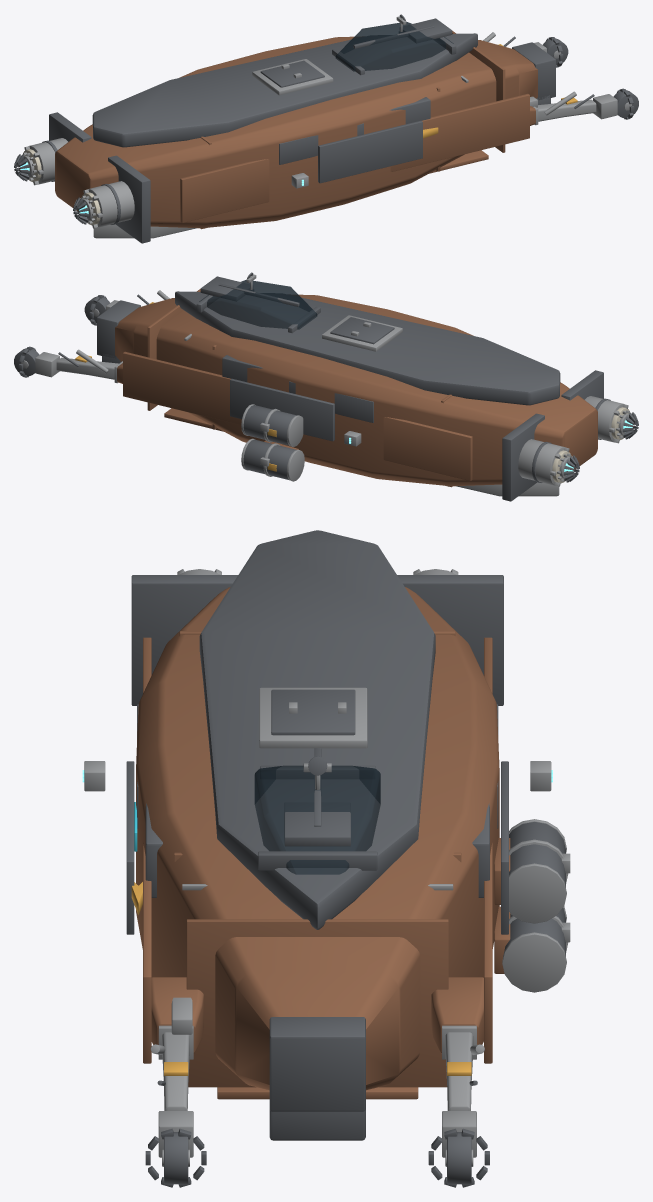
The model's file is pelican_production_v1_lod0.glb.
3 views of the same model, one above another, from view 1: azimuth 30°, elevation 25°; view 2: azimuth 150°, elevation 25°; view 3: azimuth 270°, elevation 25° (orthographic). The views are drawn at different scales.
Parts seen in each view (by area): view 1: LOD0_Hull, LOD0_Armor, LOD0_Mechanical, LOD0_Canopy, LOD0_Ceramic; view 2: LOD0_Hull, LOD0_Armor, LOD0_Mechanical, LOD0_Canopy, LOD0_Ceramic; view 3: LOD0_Armor, LOD0_Hull, LOD0_Mechanical, LOD0_Canopy, LOD0_Warning.
Part boxes in pixels (x1=…): LOD0_Hull: x1=55, y1=31, x2=537, y2=229; LOD0_Armor: x1=14, y1=14, x2=638, y2=243; LOD0_Mechanical: x1=21, y1=16, x2=631, y2=238; LOD0_Canopy: x1=335, y1=21, x2=453, y2=71; LOD0_Ceramic: x1=22, y1=149, x2=100, y2=225; LOD0_Hull: x1=115, y1=289, x2=597, y2=487; LOD0_Armor: x1=14, y1=272, x2=638, y2=501; LOD0_Mechanical: x1=21, y1=274, x2=631, y2=496; LOD0_Canopy: x1=199, y1=279, x2=317, y2=329; LOD0_Ceramic: x1=552, y1=407, x2=630, y2=483; LOD0_Armor: x1=126, y1=530, x2=565, y2=1187; LOD0_Hull: x1=136, y1=587, x2=510, y2=1099; LOD0_Mechanical: x1=84, y1=569, x2=570, y2=1166; LOD0_Canopy: x1=254, y1=765, x2=380, y2=874; LOD0_Warning: x1=131, y1=882, x2=471, y2=1075.
Size of what is drawn, in the model's own units: 14.63 by 3.76 by 5.58.
